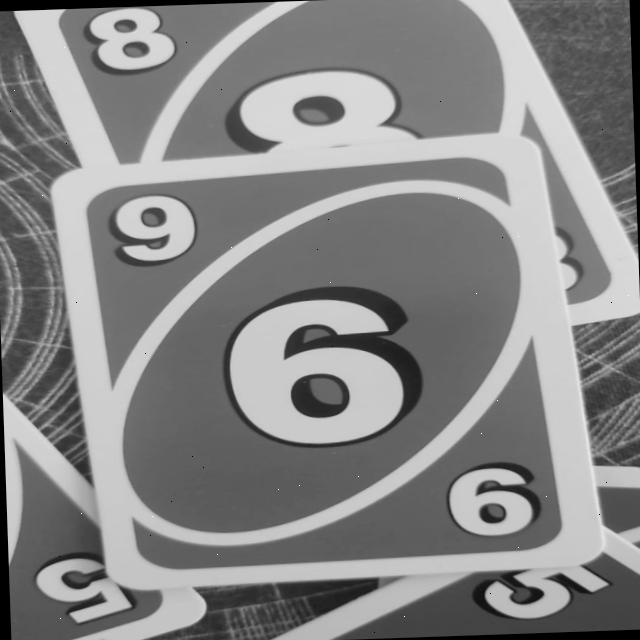card_5: (8, 399, 210, 640), (211, 535, 640, 640)
card_6: (53, 151, 596, 590)
card_8: (21, 0, 640, 336)
